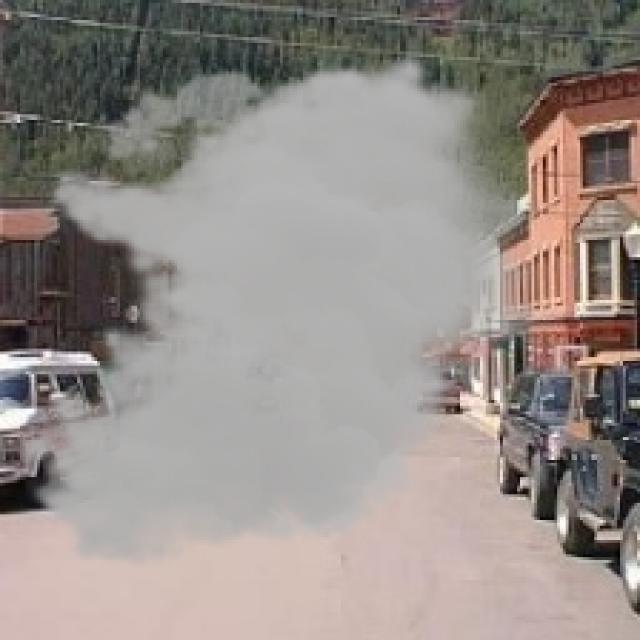smoke: (14, 51, 554, 568)
